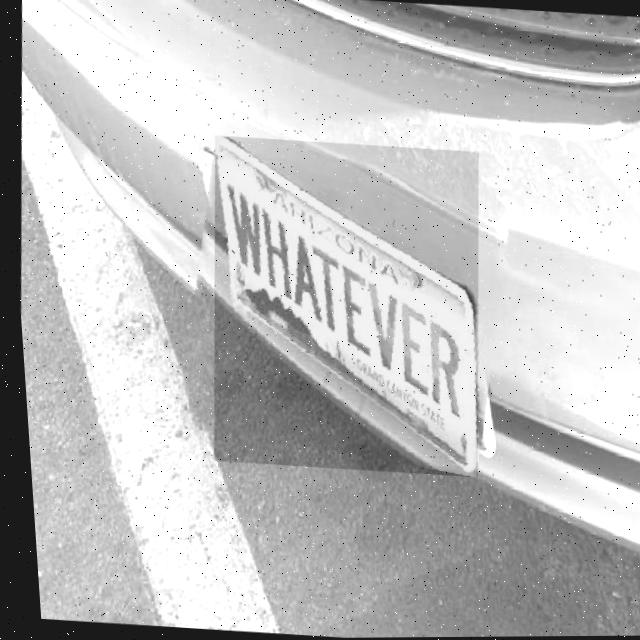LicensePlate: (213, 135, 473, 478)
